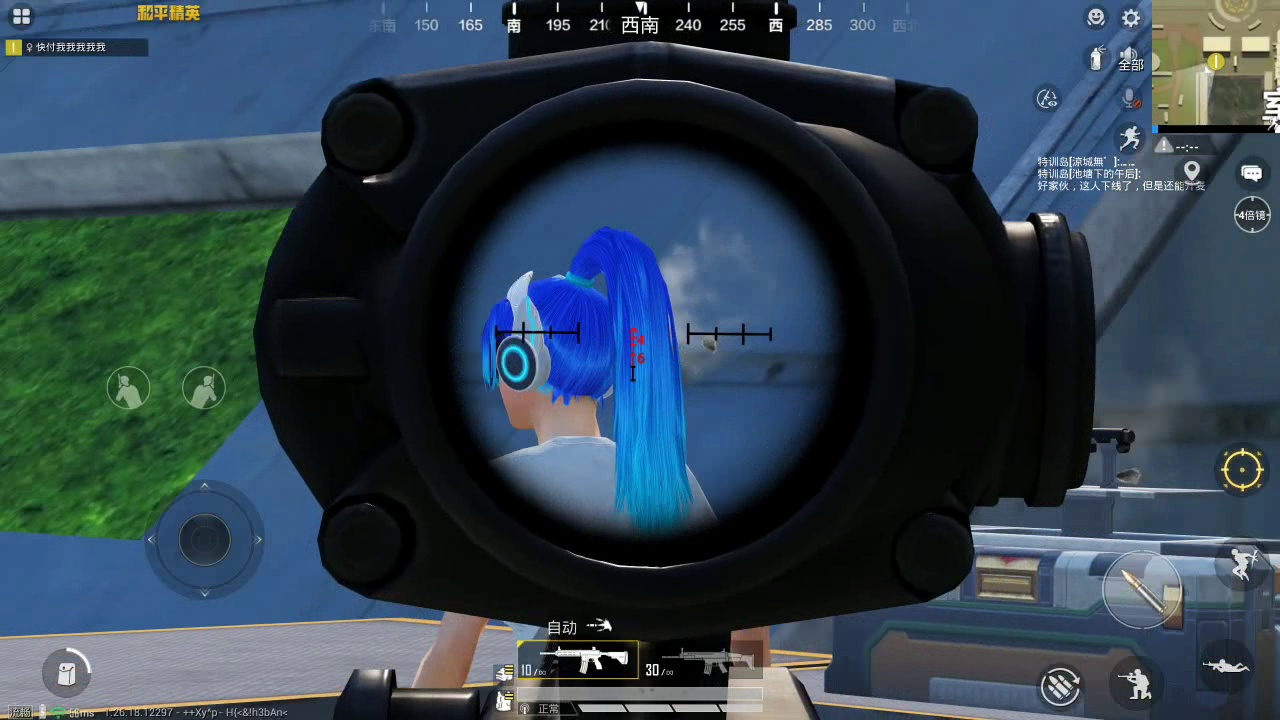enemy: (482, 231, 716, 535)
